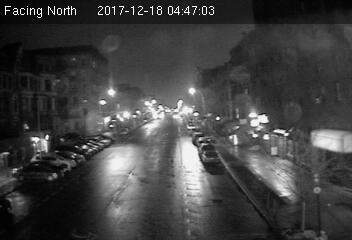car: (199, 148, 218, 163)
